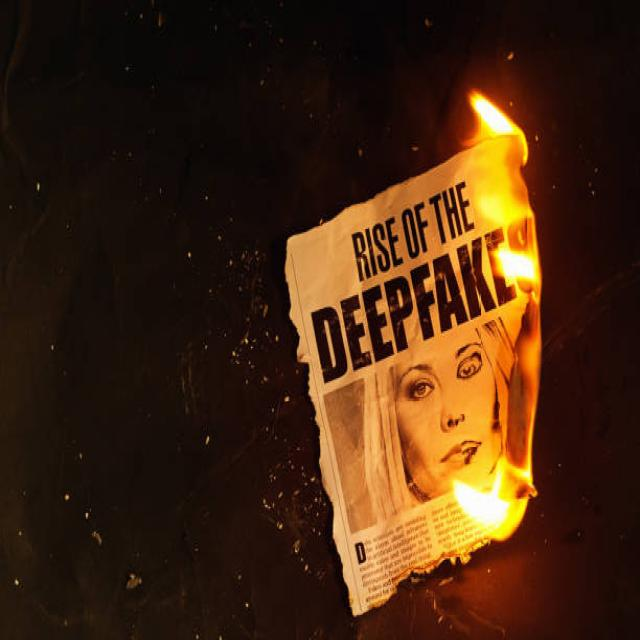fire: (505, 282, 541, 489), (468, 86, 528, 166), (474, 164, 535, 220), (452, 479, 510, 529), (492, 459, 537, 501), (491, 250, 535, 281)
